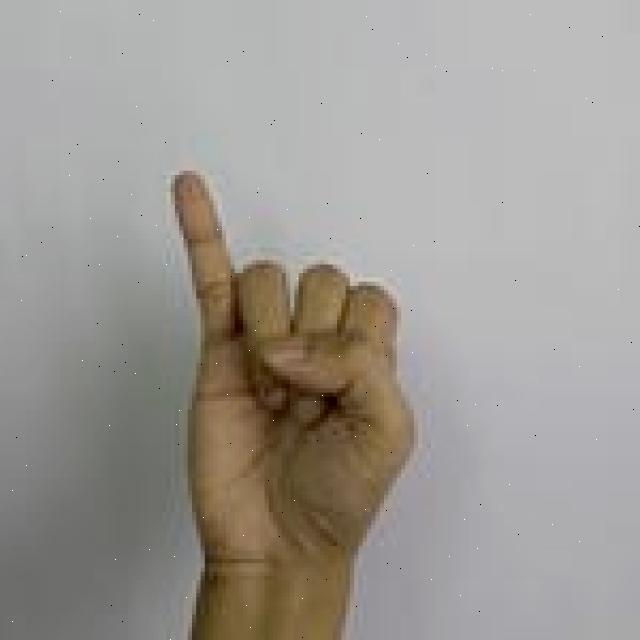I: (168, 164, 423, 640)
